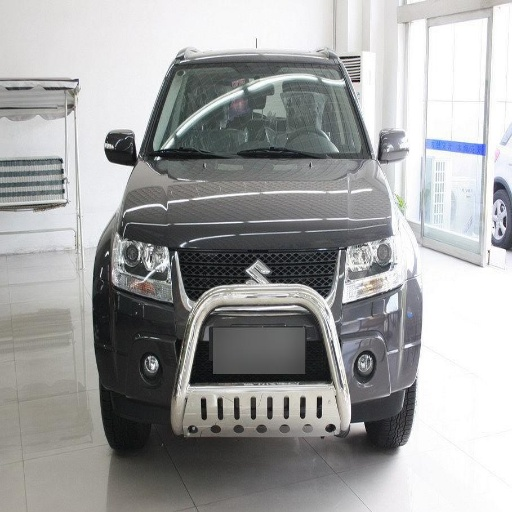front_bumper: (103, 247, 415, 423)
front_right_light: (104, 225, 172, 302)
hood: (124, 157, 389, 250)
trunk: (221, 385, 322, 403)
